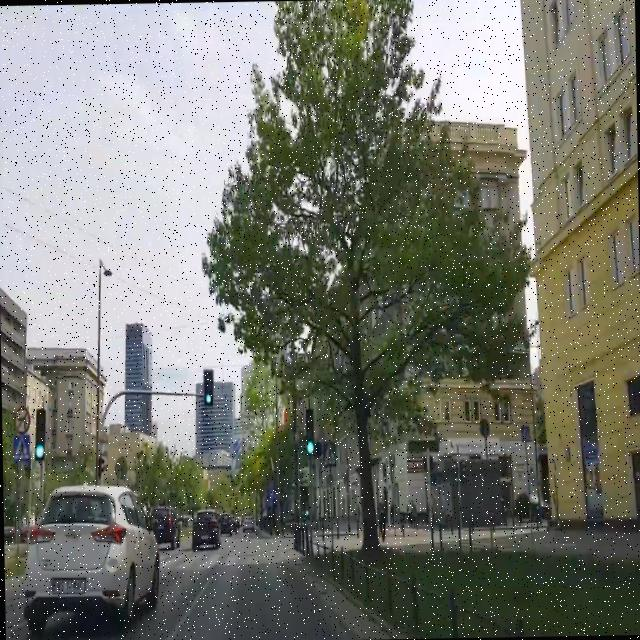Droga z pierwszenstwem: (322, 418, 336, 438)
Przejscie dla pieszych: (13, 433, 30, 462), (322, 439, 337, 467)
